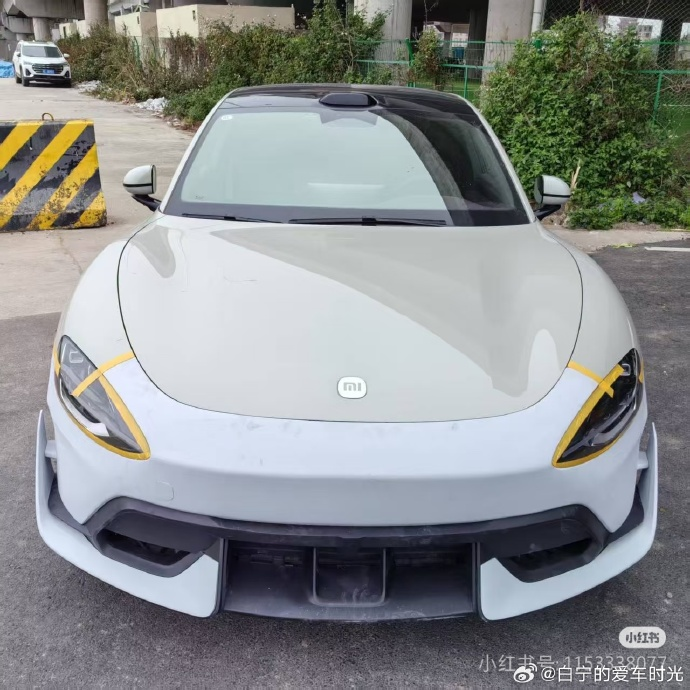other: (12, 37, 81, 90)
su7: (46, 72, 668, 619)
